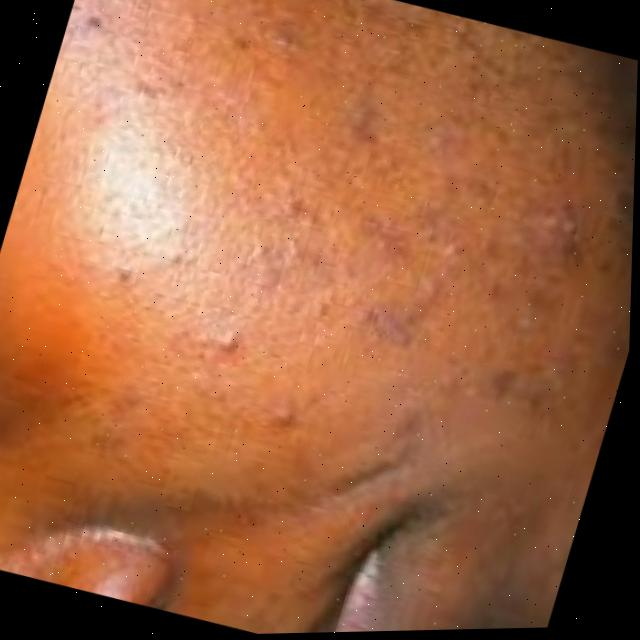Acne: (141, 5, 639, 504)
